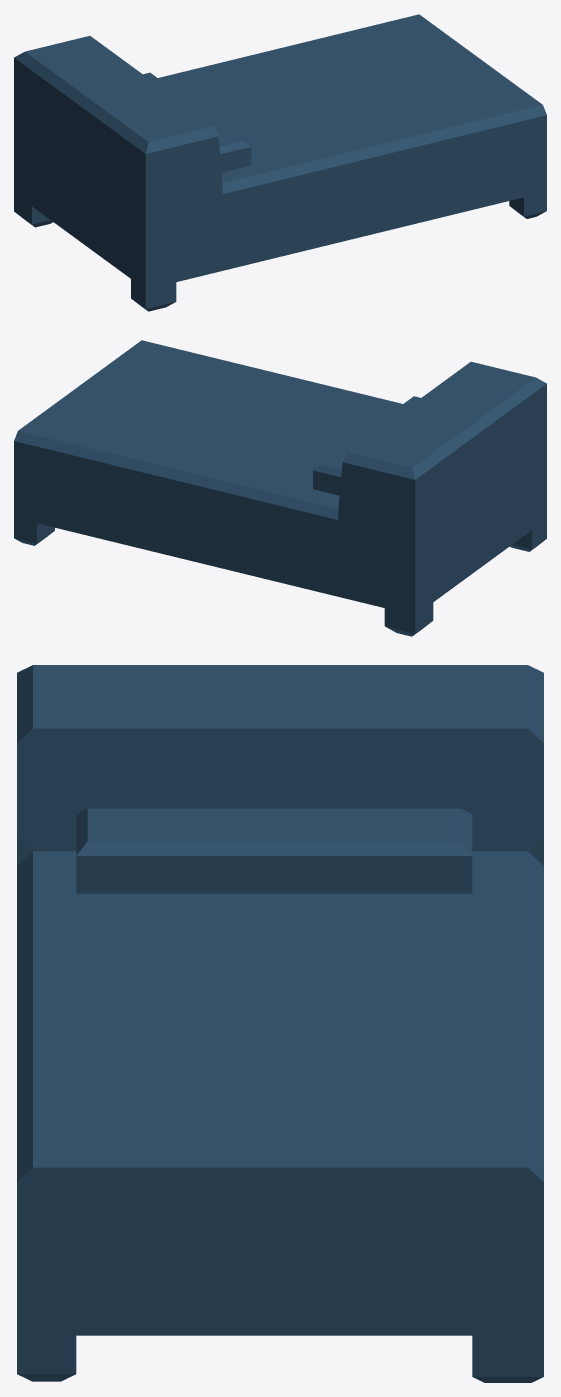
Rendered from bed.glb.
3 views of the same model, one above another, from view 1: azimuth 30°, elevation 25°; view 2: azimuth 150°, elevation 25°; view 3: azimuth 270°, elevation 25° (orthographic). The views are drawn at different scales.
Parts seen in each view (by area): view 1: Bed; view 2: Bed; view 3: Bed.
Boxes of the visible parts, x1=… form: Bed: x1=14, y1=14, x2=546, y2=311; Bed: x1=14, y1=340, x2=546, y2=636; Bed: x1=17, y1=665, x2=543, y2=1382.
Bounding box in the file's own units: 5.88 × 2.37 × 3.34.
